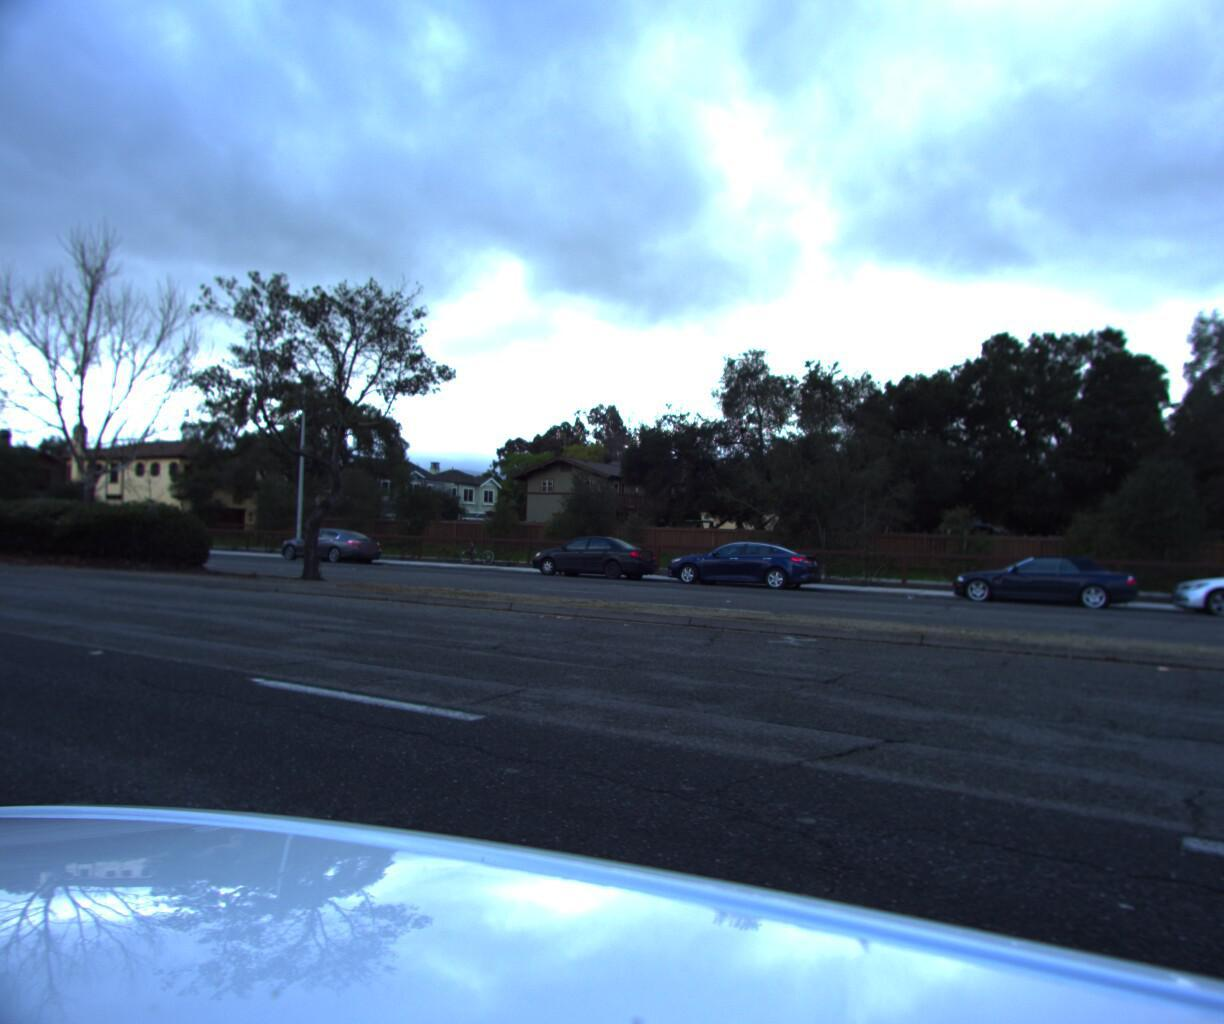car: (943, 546, 1141, 613), (657, 540, 832, 597), (526, 534, 664, 584), (1161, 551, 1224, 629), (276, 530, 384, 570)
